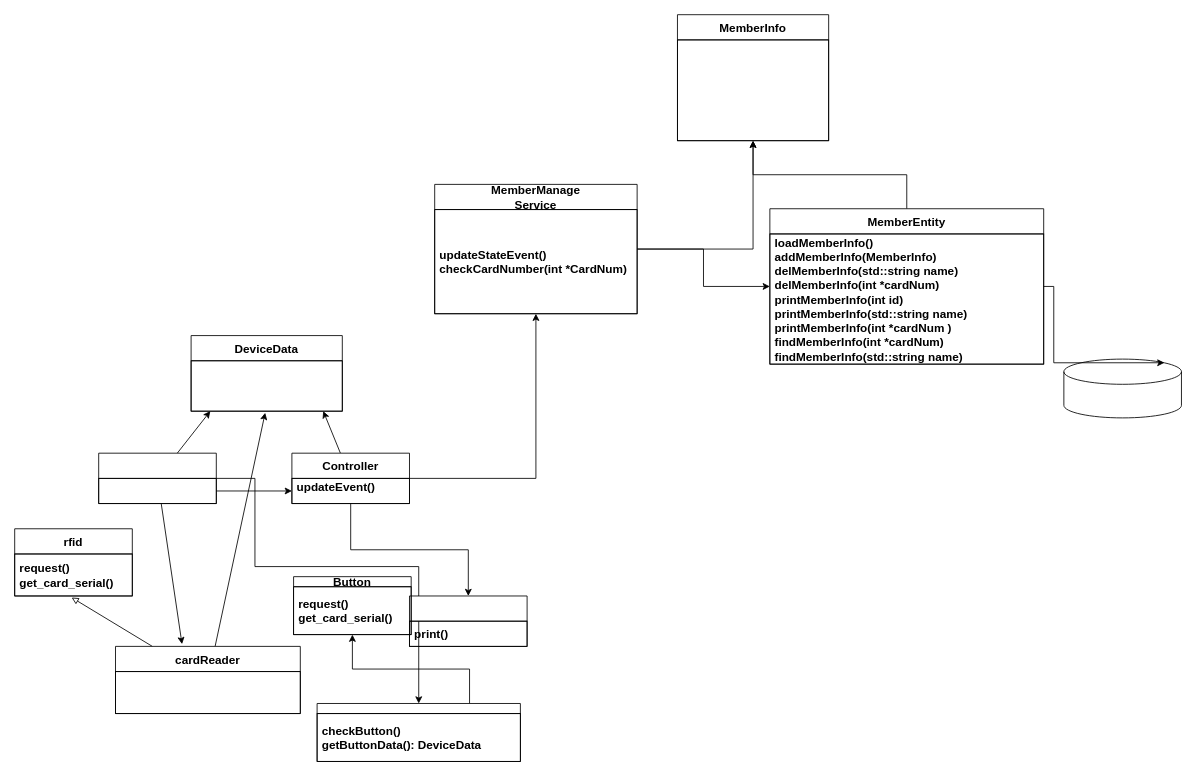
Some shapes in this 1196 by 776 pixel diagram are drawn without their labels. The box of each missing label's shape, as (x1, y1, x2, y2) in pixels:
checkEvent(): (98, 478, 216, 504)
DataBase memberList.bin: (1063, 358, 1181, 418)
devName : std::string devData: std::vector: (190, 360, 342, 411)
id: int name[10] : char address[40] : char phoneNum[15]: char cardNum[5] : int: (677, 39, 829, 141)
Listener: (98, 452, 216, 504)
ManageButton: (316, 703, 520, 761)
Monitor: (409, 595, 527, 646)
request() getCardNumber : Device Data: (115, 671, 300, 714)
